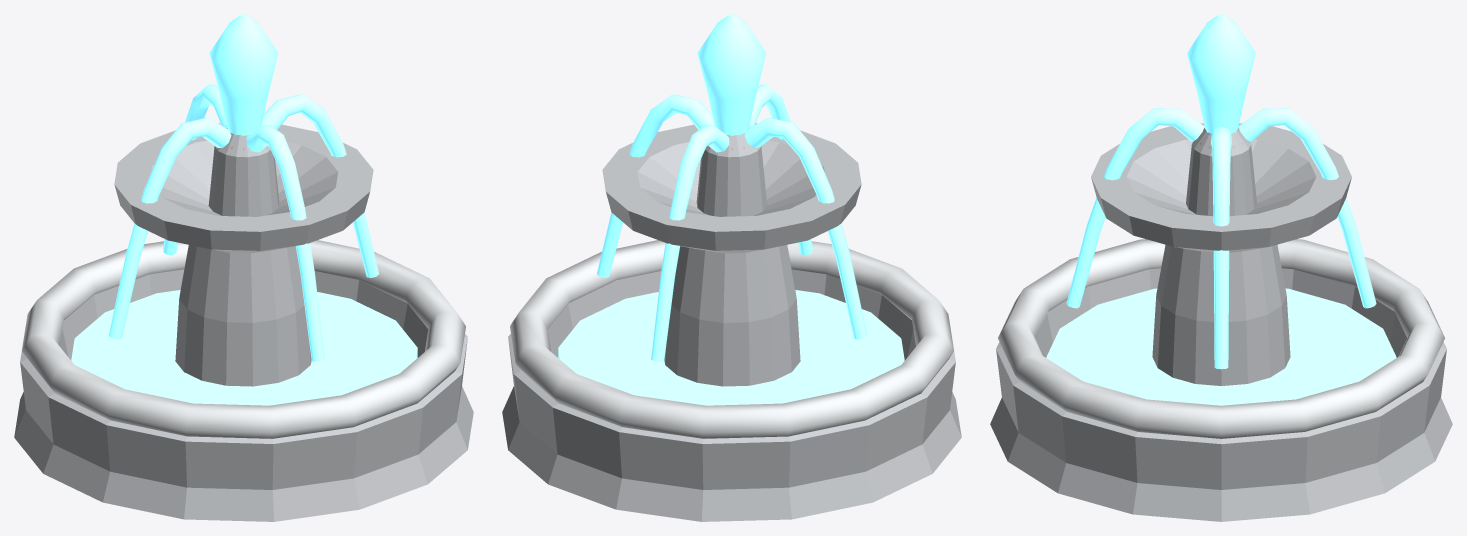
Rendered from prop_fountain.glb.
3 views of the same model, side by side, from view 1: azimuth 30°, elevation 25°; view 2: azimuth 150°, elevation 25°; view 3: azimuth 270°, elevation 25° (orthographic).
Visible parts, largest first — view 1: Body, FountainJet; view 2: Body, FountainJet; view 3: Body, FountainJet.
Boxes of the visible parts, <box> form: Body: <box>14,123,473,521</box>; FountainJet: <box>109,14,378,361</box>; Body: <box>502,123,961,521</box>; FountainJet: <box>597,14,866,361</box>; Body: <box>990,123,1452,521</box>; FountainJet: <box>1066,14,1376,369</box>.
Bounding box in the file's own units: 0.78 × 0.76 × 0.78.
